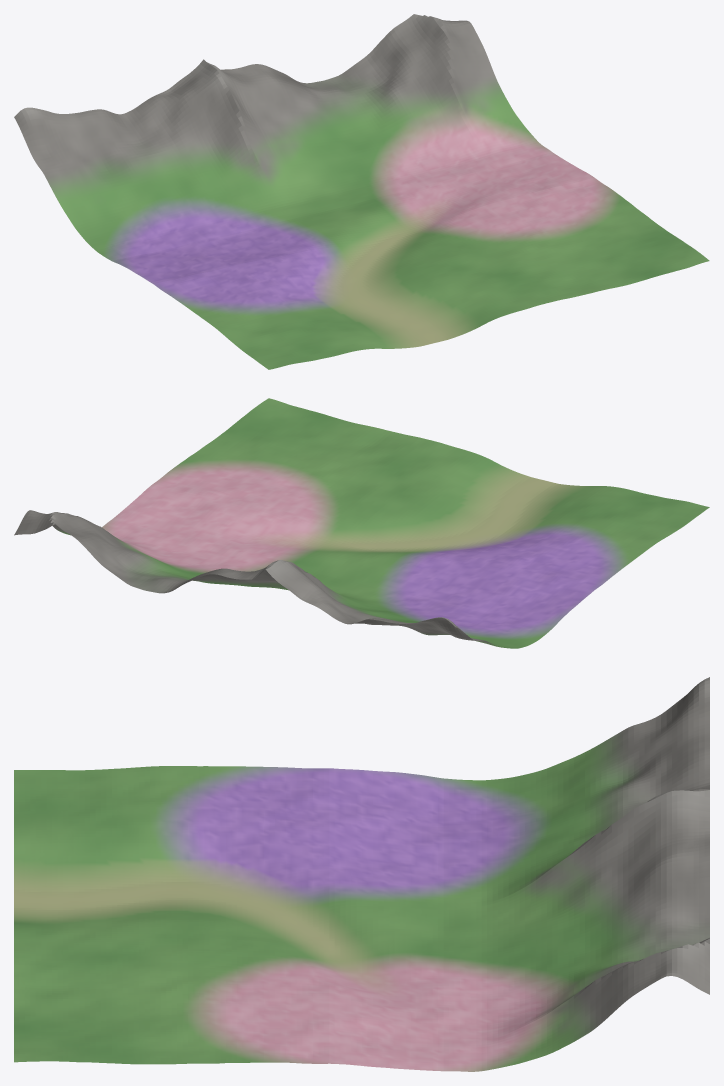
File: terrain.glb
3 views of the same model, one above another, from view 1: azimuth 30°, elevation 25°; view 2: azimuth 150°, elevation 25°; view 3: azimuth 270°, elevation 25° (orthographic). The views are drawn at different scales.
Parts seen in each view (by area): view 1: Terrain; view 2: Terrain; view 3: Terrain.
Boxes of the visible parts, box(x1,y1,x2,y2) form: Terrain: box(14, 14, 709, 369); Terrain: box(14, 398, 709, 648); Terrain: box(14, 677, 709, 1071).
Bounding box in the file's own units: 2000 × 397 × 2000.
